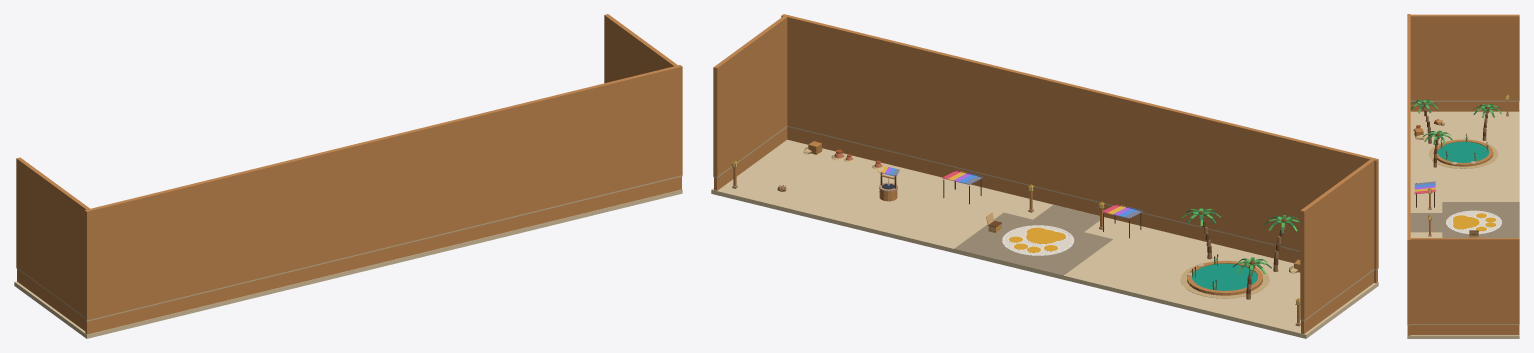
File: CatCafe_Camp_Desert.glb
3 views of the same model, side by side, from view 1: azimuth 30°, elevation 25°; view 2: azimuth 150°, elevation 25°; view 3: azimuth 270°, elevation 25° (orthographic). The views are drawn at different scales.
Visible parts, largest first — view 1: CatCafe_Camp_Desert_Barrier, CatCafe_Camp_Desert; view 2: CatCafe_Camp_Desert_Barrier, CatCafe_Camp_Desert, CatCafe_Camp_Desert_001_OasisPool_Water, CatCafe_Camp_Desert_001_OasisPool, CatCafe_Camp_Desert_005_Well; view 3: CatCafe_Camp_Desert_Barrier, CatCafe_Camp_Desert, CatCafe_Camp_Desert_001_OasisPool, CatCafe_Camp_Desert_001_OasisPool_Water, CatCafe_Camp_Desert_004_Palm, CatCafe_Camp_Desert_003_Palm, CatCafe_Camp_Desert_002_Palm, CatCafe_Camp_Desert_007_Canopy, CatCafe_Camp_Desert_016_Crate.
Boxes of the visible parts, bbox=[...] form: CatCafe_Camp_Desert_Barrier: bbox=[16, 14, 682, 320]; CatCafe_Camp_Desert: bbox=[14, 175, 682, 338]; CatCafe_Camp_Desert_Barrier: bbox=[713, 14, 1378, 319]; CatCafe_Camp_Desert: bbox=[711, 125, 1378, 338]; CatCafe_Camp_Desert_001_OasisPool_Water: bbox=[1192, 263, 1257, 290]; CatCafe_Camp_Desert_001_OasisPool: bbox=[1180, 254, 1269, 298]; CatCafe_Camp_Desert_005_Well: bbox=[877, 166, 899, 201]; CatCafe_Camp_Desert_Barrier: bbox=[1407, 14, 1519, 324]; CatCafe_Camp_Desert: bbox=[1407, 100, 1519, 338]; CatCafe_Camp_Desert_001_OasisPool: bbox=[1428, 133, 1498, 168]; CatCafe_Camp_Desert_001_OasisPool_Water: bbox=[1437, 141, 1489, 162]; CatCafe_Camp_Desert_004_Palm: bbox=[1410, 99, 1438, 143]; CatCafe_Camp_Desert_003_Palm: bbox=[1473, 104, 1501, 140]; CatCafe_Camp_Desert_002_Palm: bbox=[1422, 130, 1452, 167]; CatCafe_Camp_Desert_007_Canopy: bbox=[1414, 181, 1435, 207]; CatCafe_Camp_Desert_016_Crate: bbox=[1414, 128, 1427, 139].
Size of the model in its own units: 152 by 31 by 32.
1 material, 1 textured.
